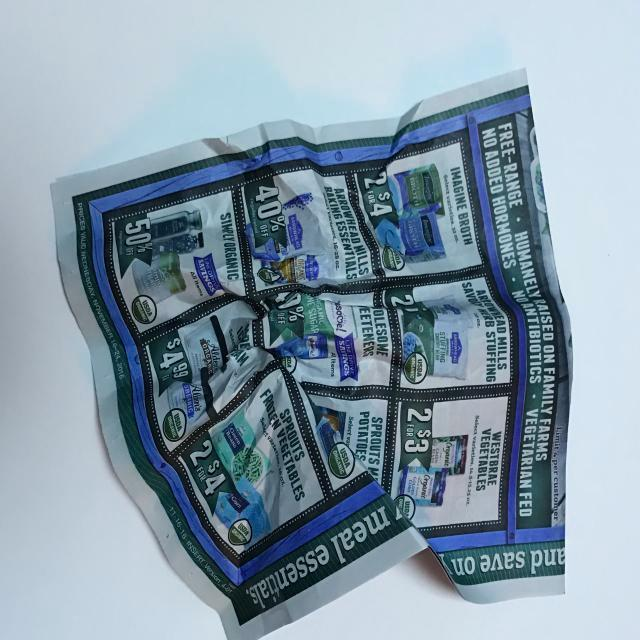paper: (42, 62, 599, 640)
